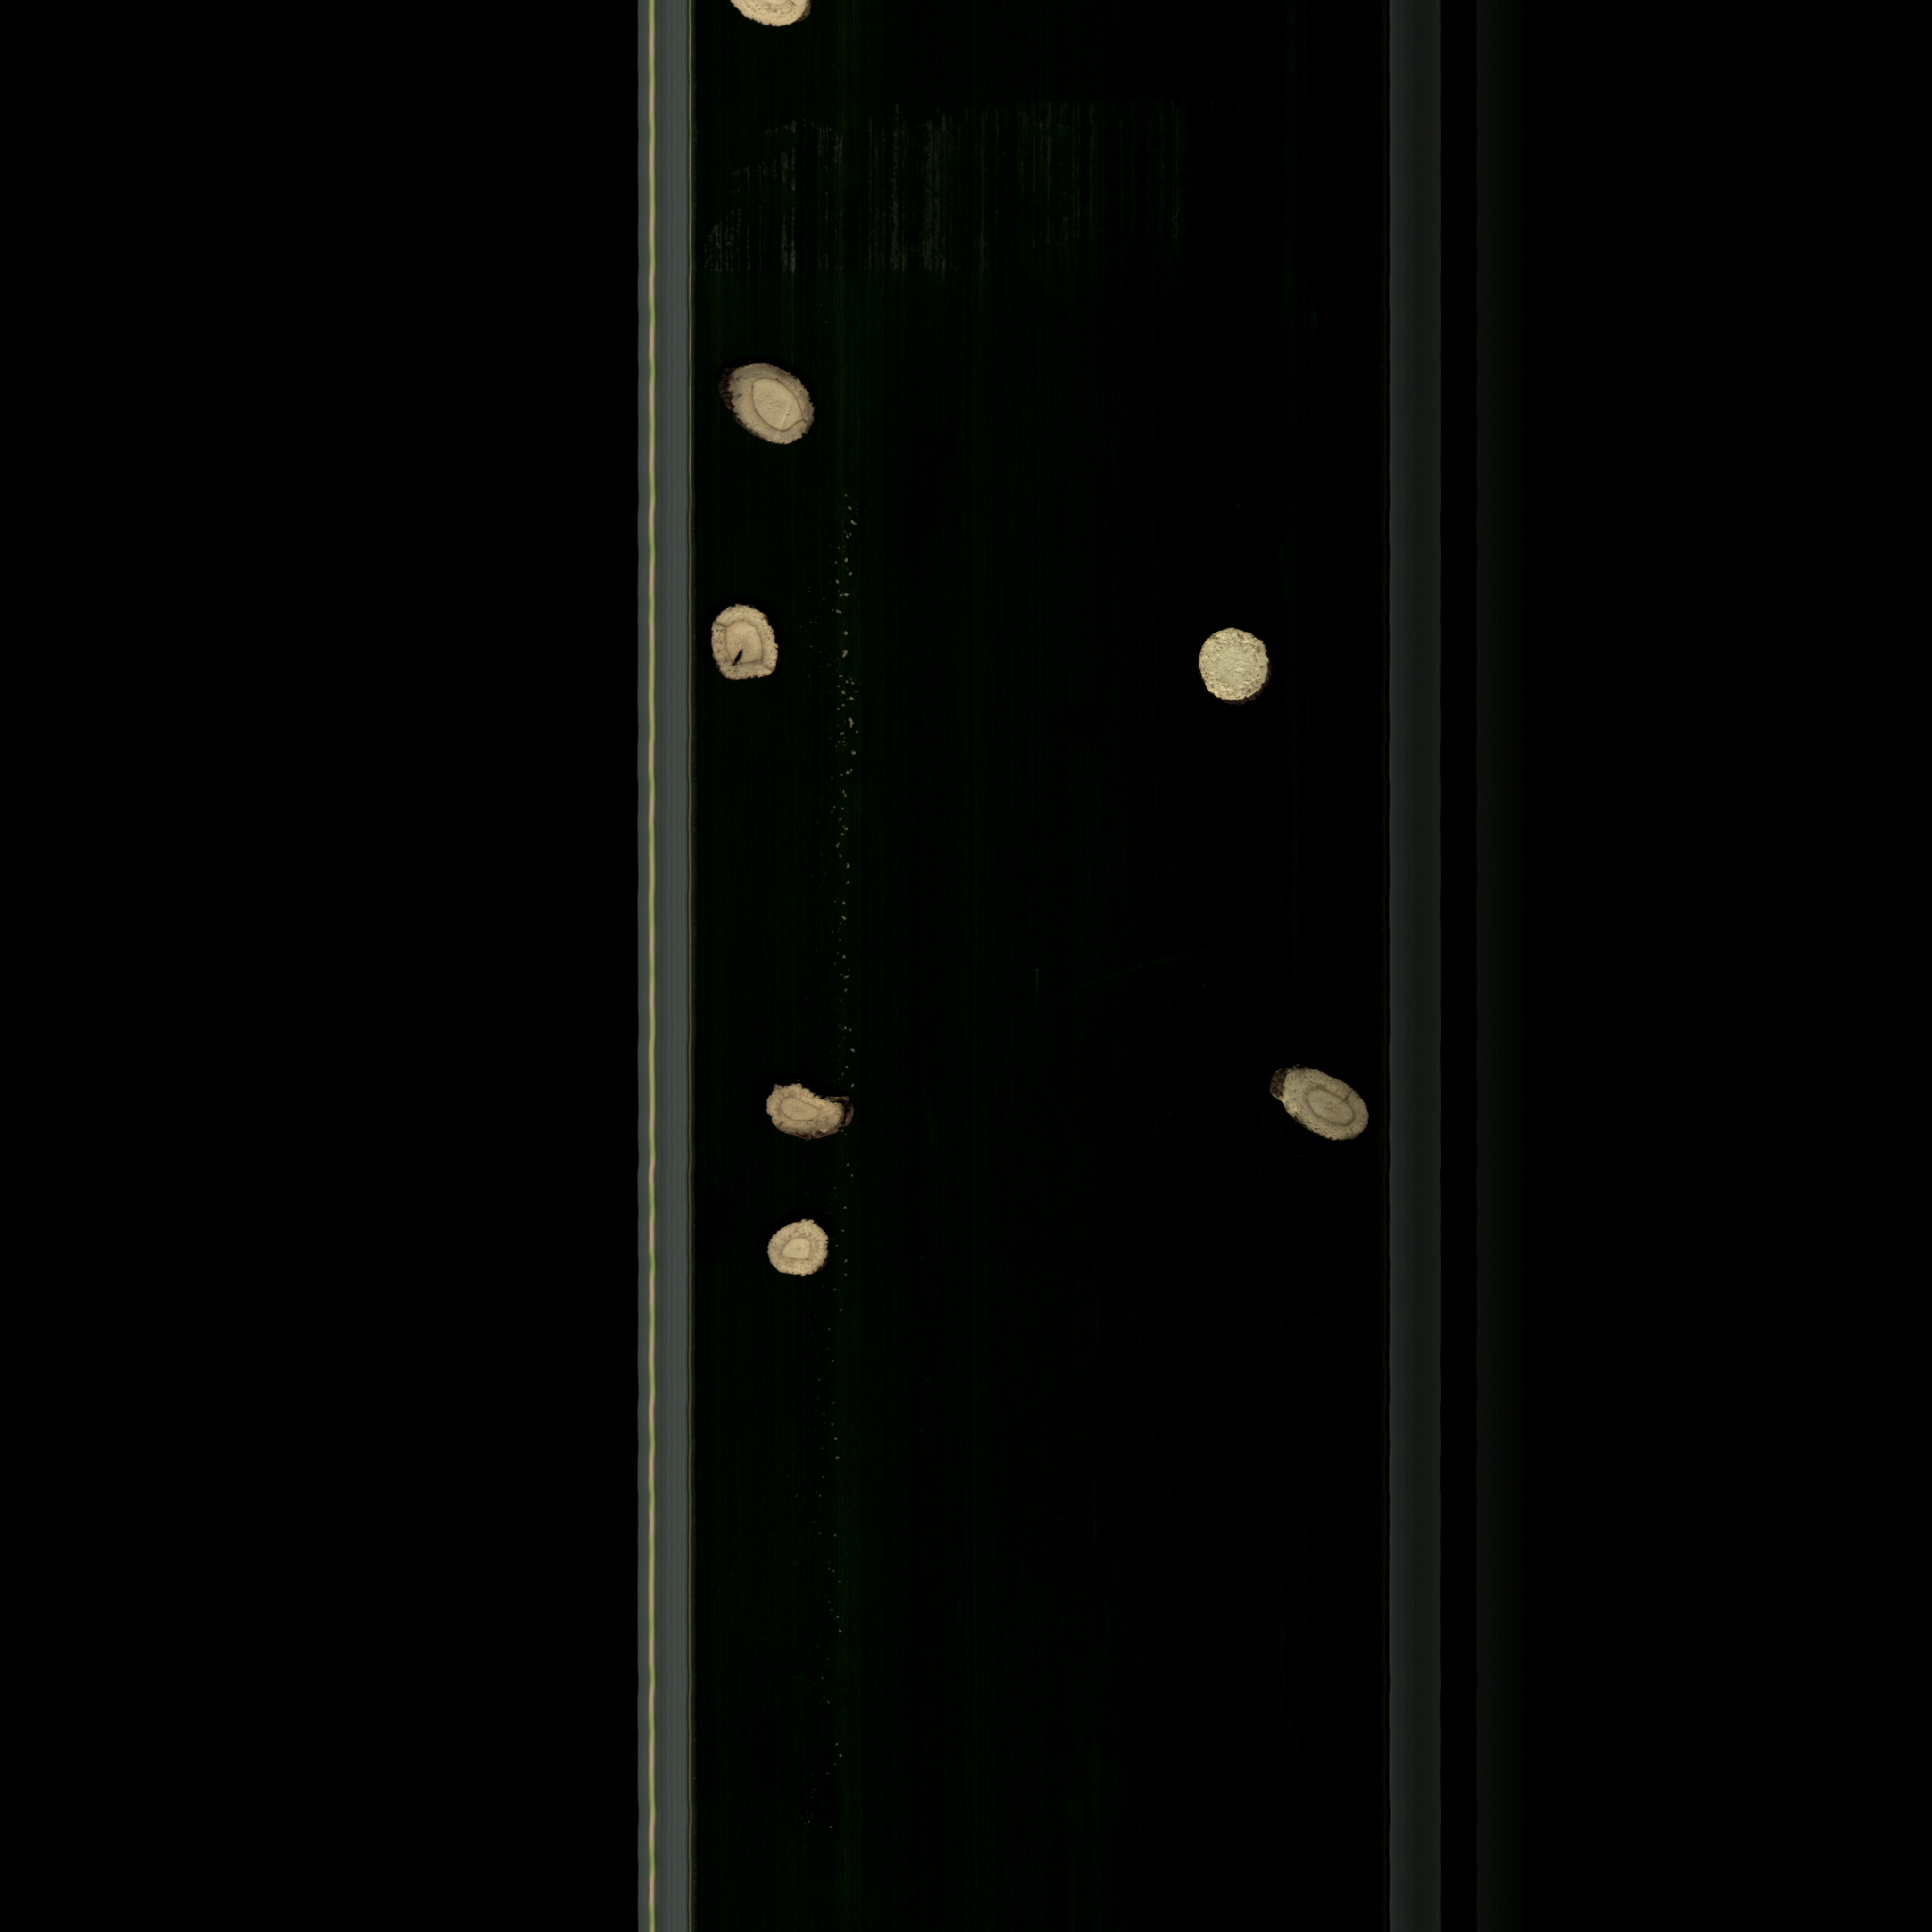hole: (702, 596, 787, 695)
moldy: (709, 352, 837, 465), (1256, 1047, 1376, 1154), (750, 1067, 872, 1146)
